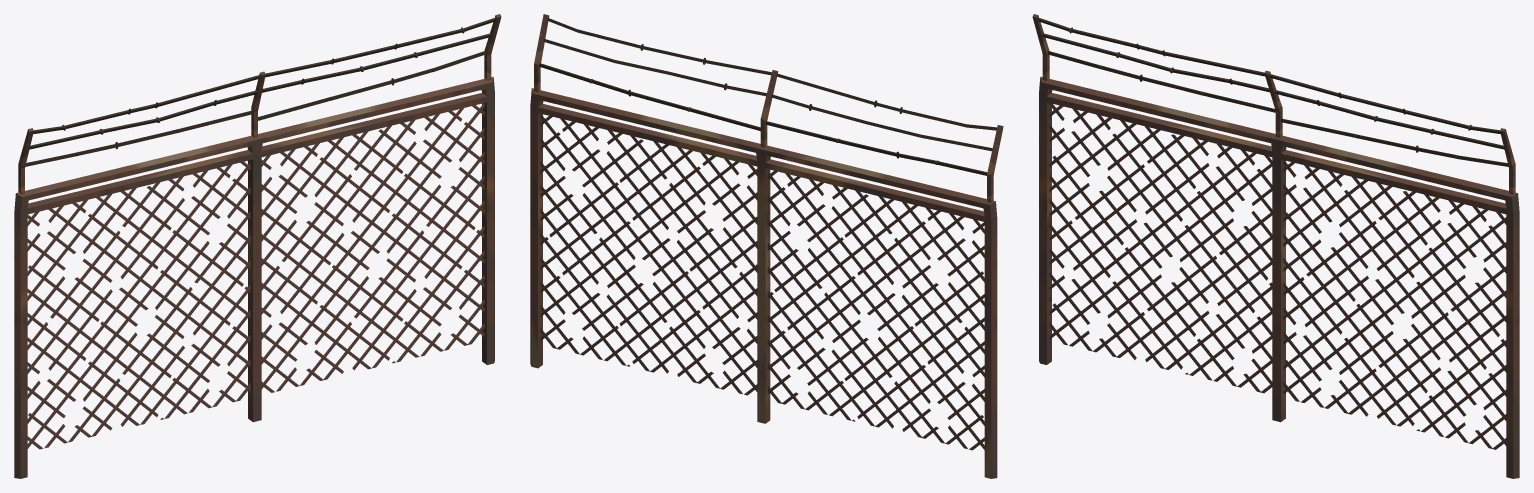
The model's file is SM_Prop_Fence_01.obj.
The picture shows the model from 3 angles, left to right: view 1: azimuth 30°, elevation 25°; view 2: azimuth 150°, elevation 25°; view 3: azimuth 330°, elevation 25°; orthographic projection. The views are drawn at different scales.
Parts seen in each view (by area): view 1: SM_Prop_Fence_01_0, SM_Prop_Fence_01_1; view 2: SM_Prop_Fence_01_0, SM_Prop_Fence_01_1; view 3: SM_Prop_Fence_01_0, SM_Prop_Fence_01_1.
Part boxes in pixels (x1,y1,x2,y2): SM_Prop_Fence_01_0: [27, 103, 484, 449]; SM_Prop_Fence_01_1: [14, 14, 501, 478]; SM_Prop_Fence_01_0: [540, 114, 984, 450]; SM_Prop_Fence_01_1: [530, 14, 1003, 478]; SM_Prop_Fence_01_0: [1049, 103, 1506, 449]; SM_Prop_Fence_01_1: [1032, 14, 1519, 478].
Size of the model in its own units: 3.94 by 2.78 by 0.1887.
Materials: 2 (2 with a texture image).
